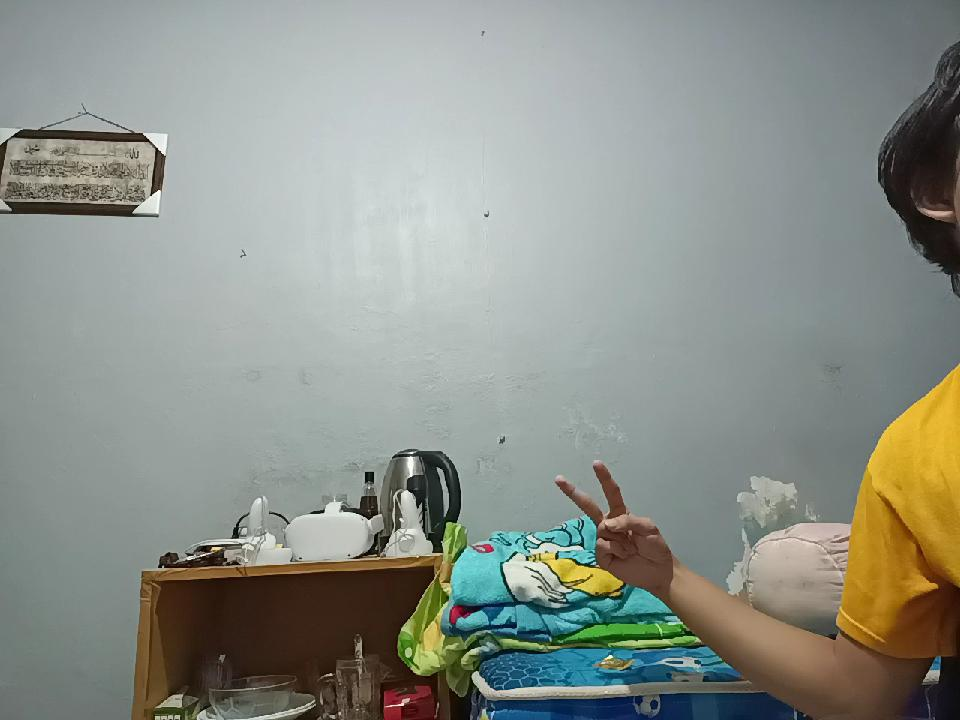scissors: (557, 450, 671, 590)
